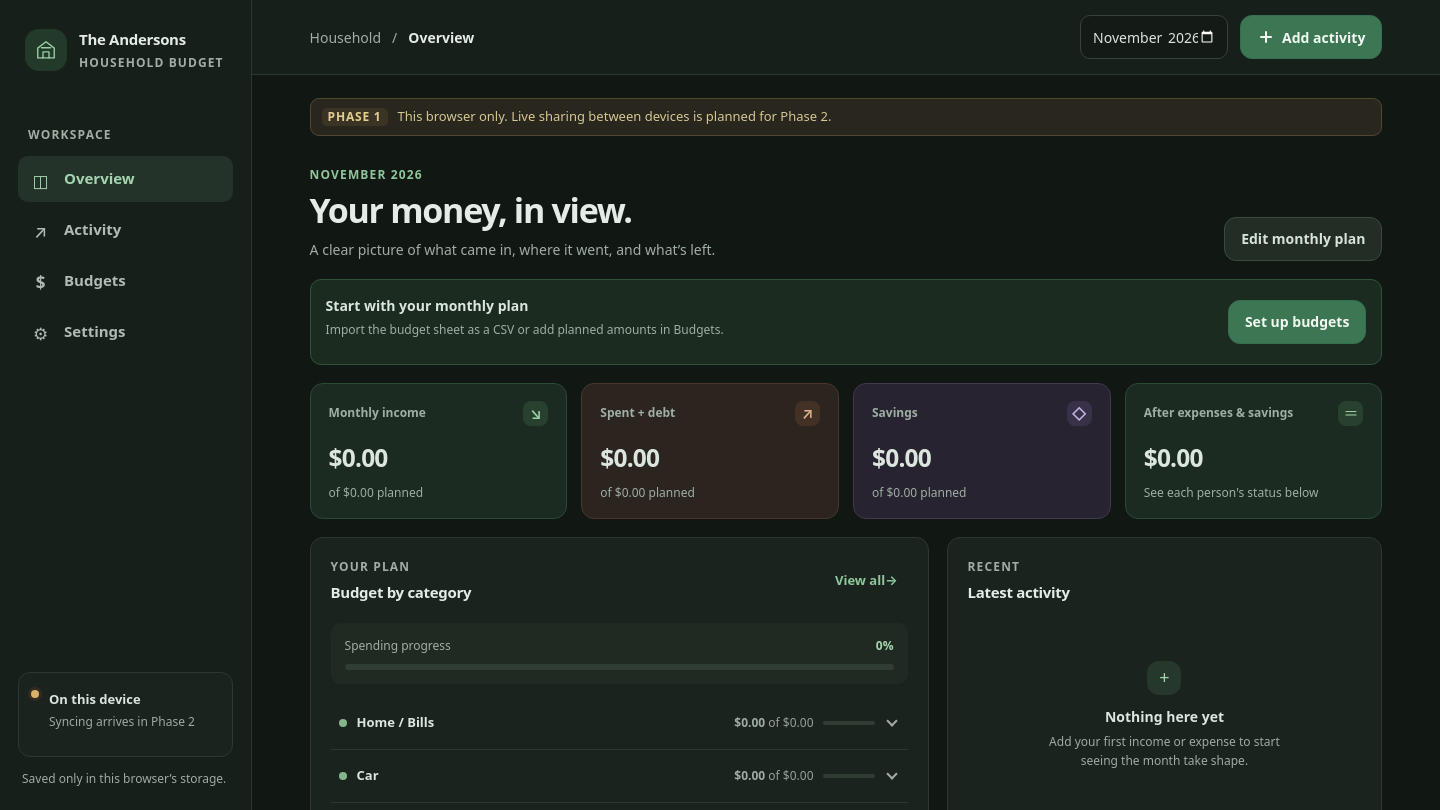
budget app phase 1 › shows an error when a category name already exists in its group
Click the button "$ Budgets" at (126, 280), box [18, 258, 233, 304]
(page scrolled)
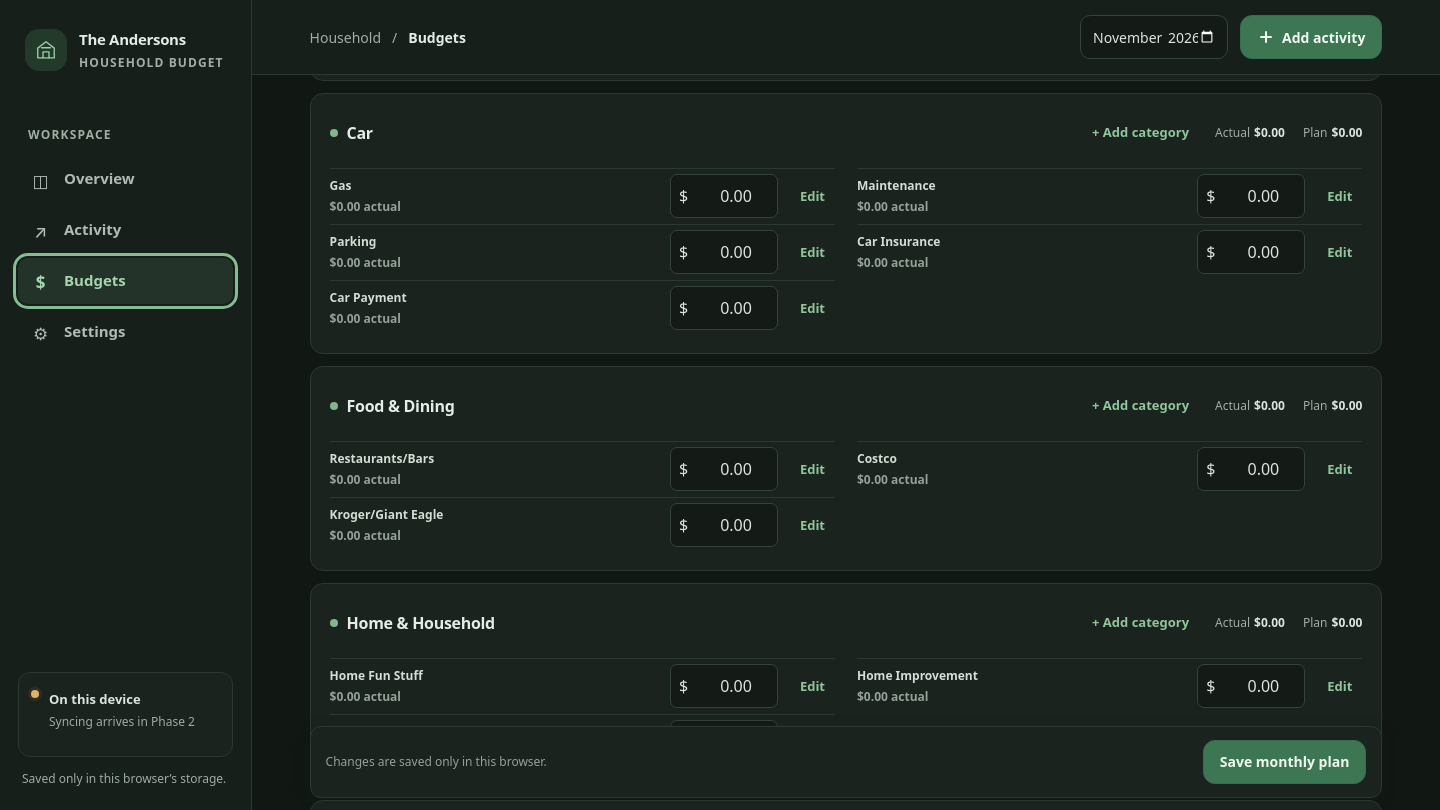
Click the button "+ Add category" in the row of "Food & Dining" at (1141, 406), box [1082, 384, 1199, 428]
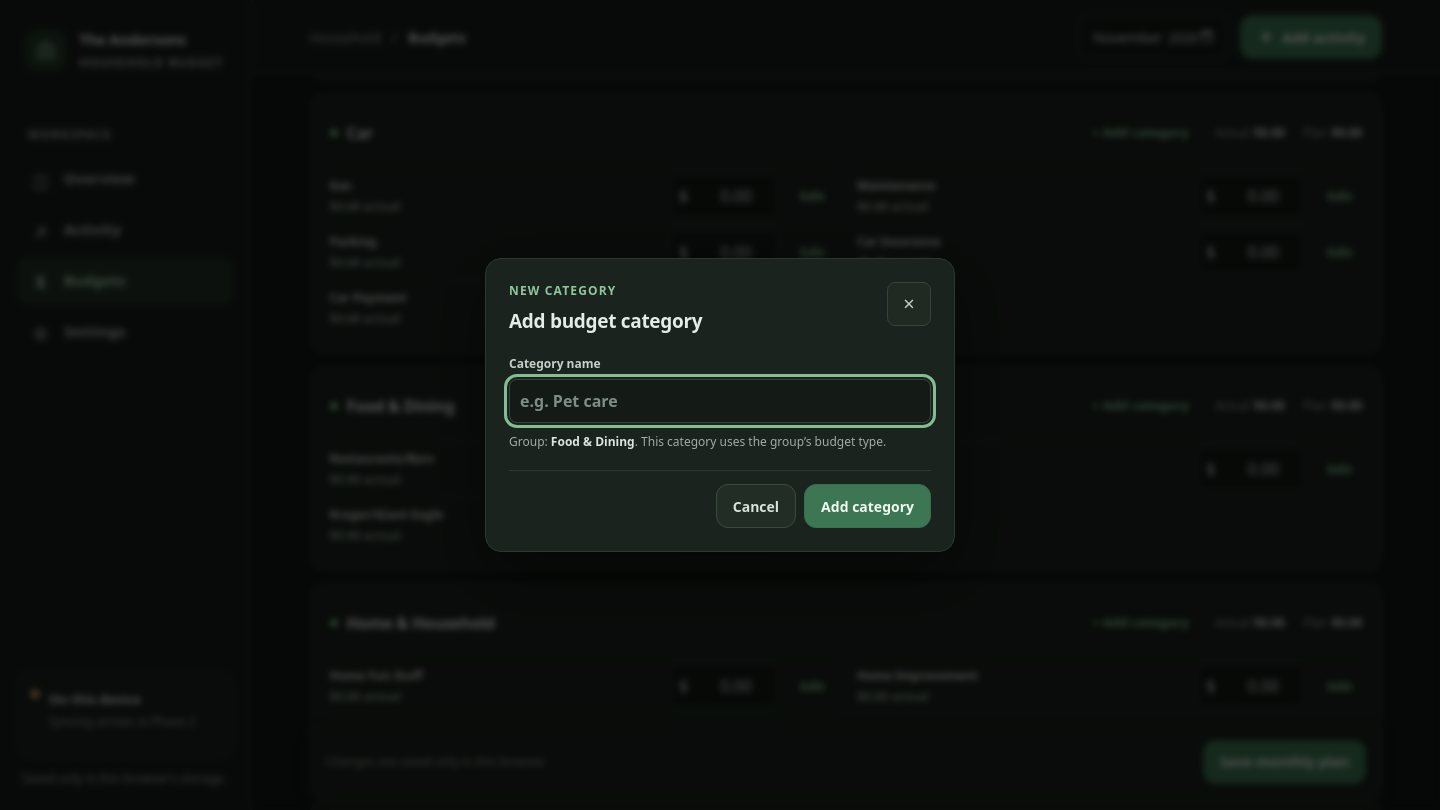
Type "Costco" into the field labelled "Category name" at (720, 401), box [509, 379, 931, 423]
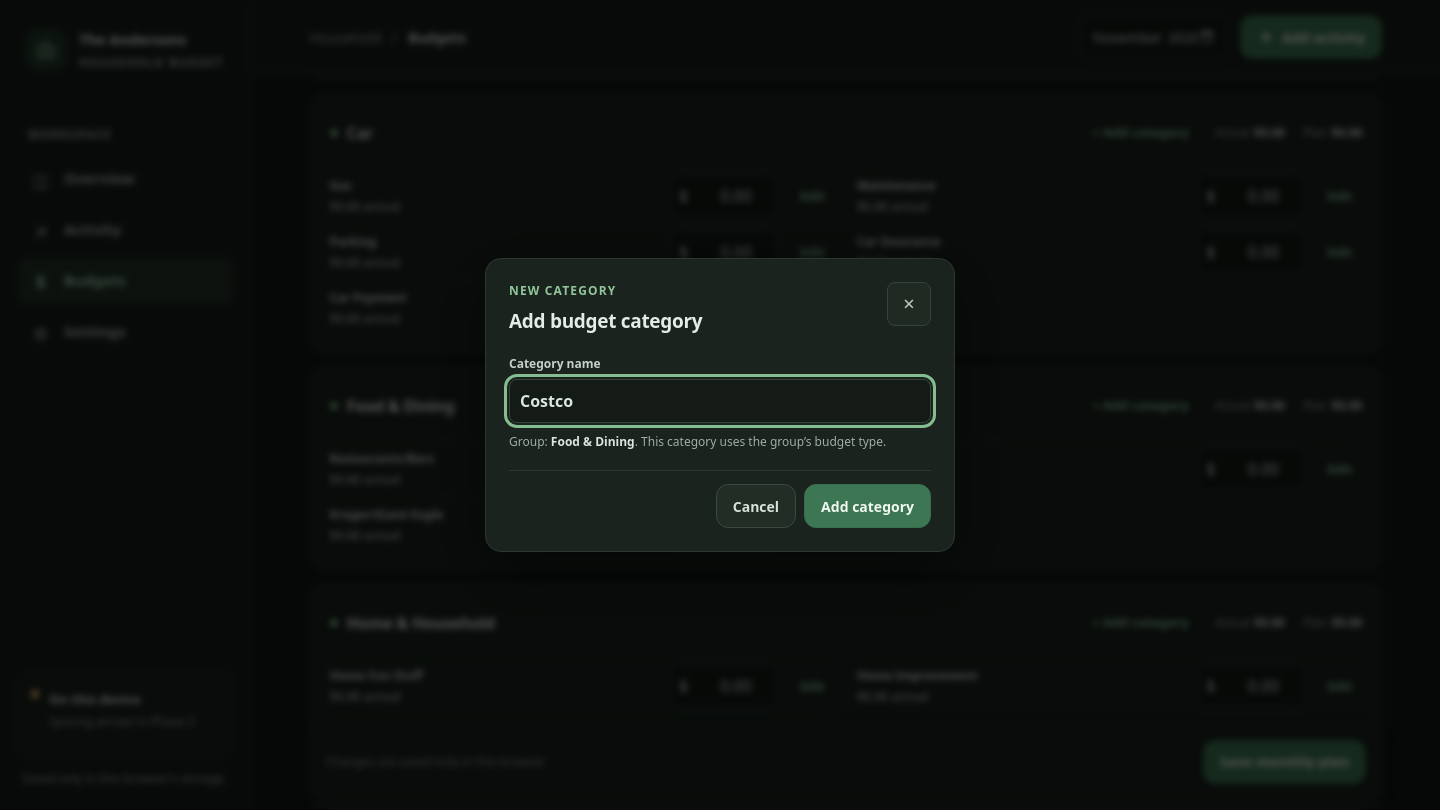
Click the button "Add category" at (868, 506), box [804, 484, 931, 528]
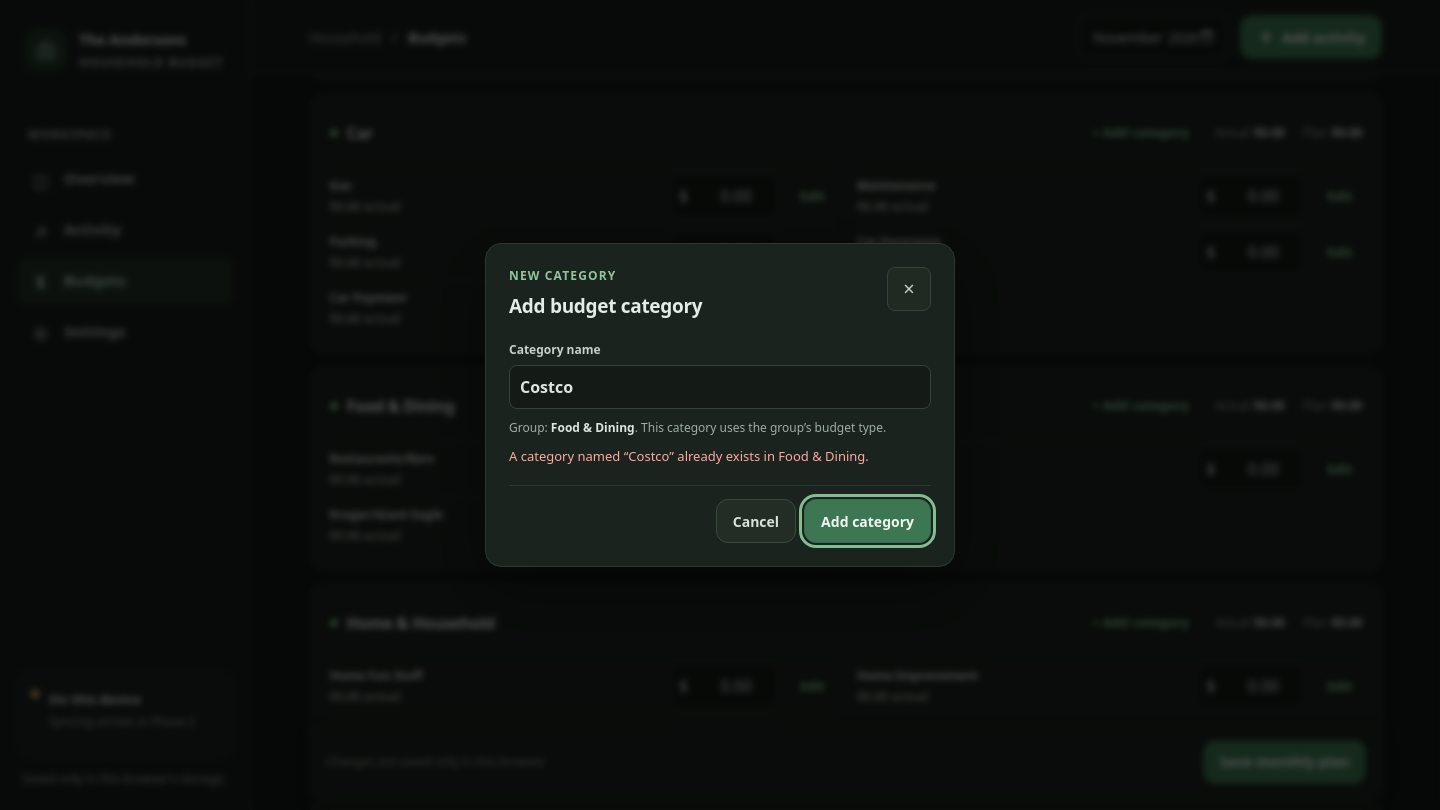
Expected: the message shows "already exists in Food & Dining", [509, 446, 869, 464]
